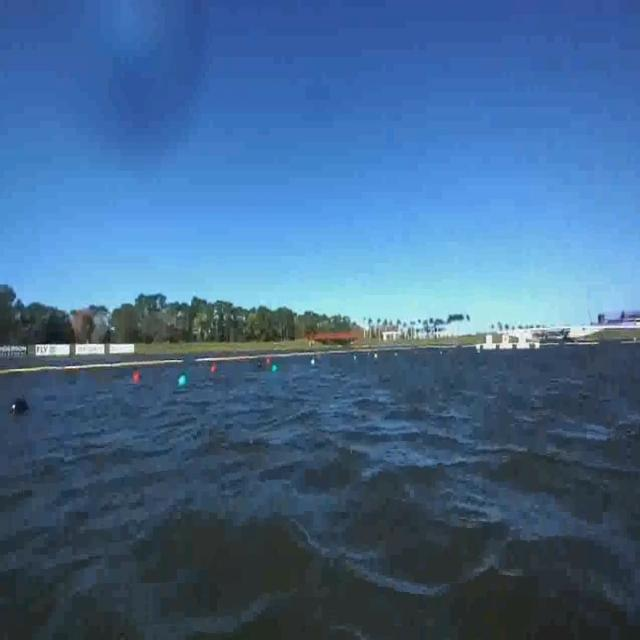black-buoy: (10, 397, 29, 415)
green-buoy: (181, 373, 191, 386)
red-buoy: (132, 366, 144, 392)
